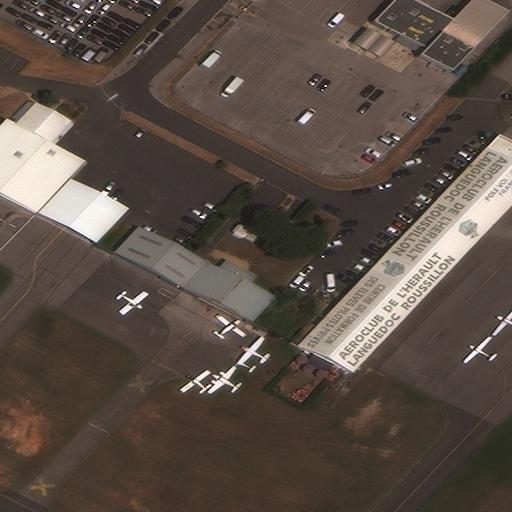Small Civil Transport: (236, 335, 268, 363), (207, 365, 239, 392), (462, 336, 494, 361), (216, 313, 247, 336), (119, 293, 149, 316), (178, 368, 206, 391), (490, 308, 511, 334)
